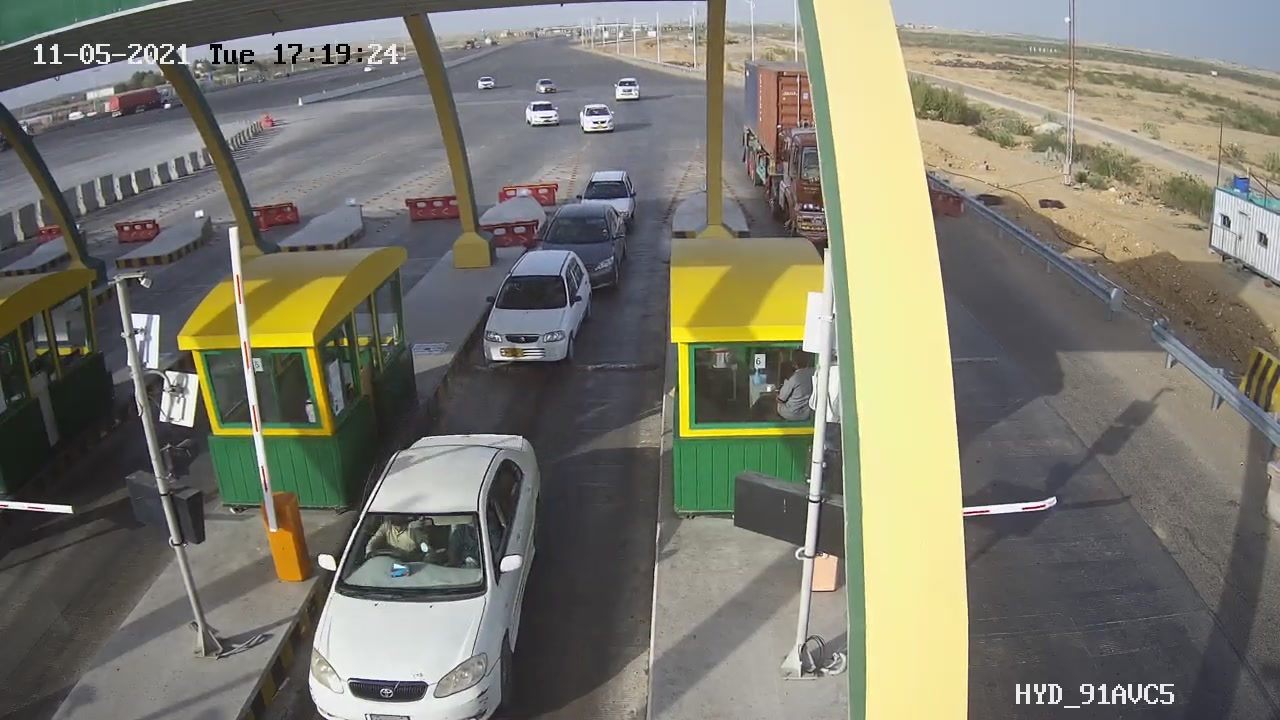F1: (468, 239, 607, 378)
